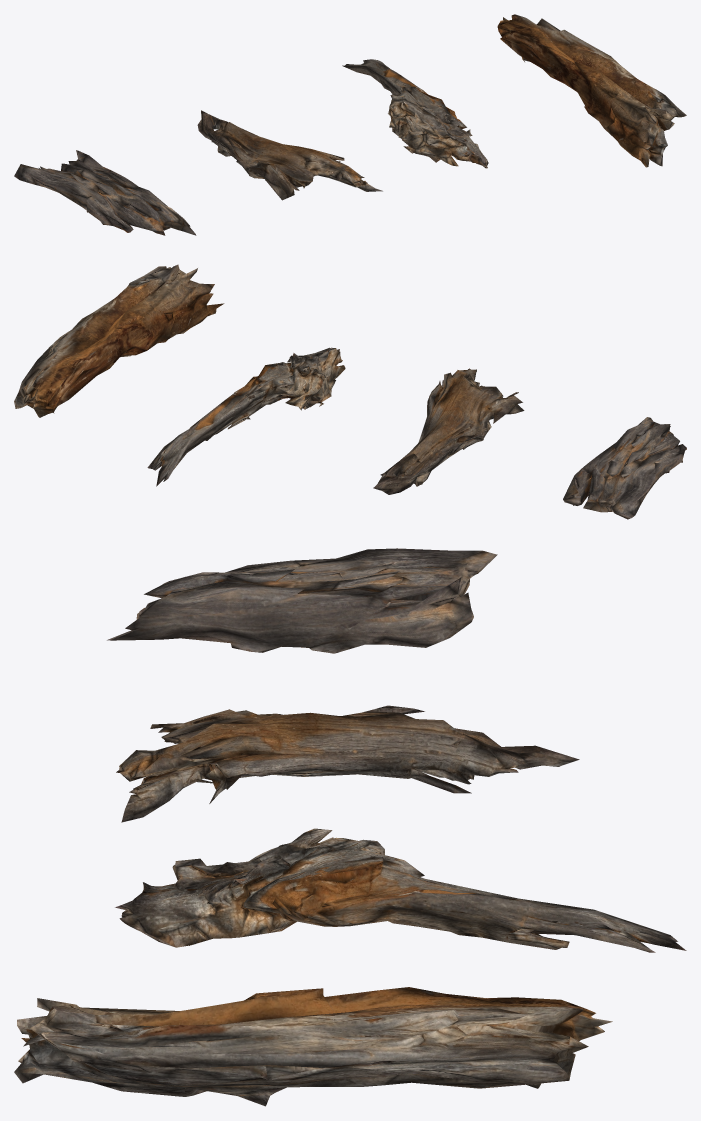
The model's file is bark_debris_01.glb.
3 renders of one model, top to bottom at view 1: azimuth 30°, elevation 25°; view 2: azimuth 150°, elevation 25°; view 3: azimuth 270°, elevation 25°, orthographic. The views are drawn at different scales.
Visible parts, largest first — view 1: bark_debris_01_d, bark_debris_01_a, bark_debris_01_b, bark_debris_01_c; view 2: bark_debris_01_d, bark_debris_01_b, bark_debris_01_c, bark_debris_01_a; view 3: bark_debris_01_d, bark_debris_01_c, bark_debris_01_a, bark_debris_01_b.
Boxes of the visible parts, x1,y1,x2,y2 form: bark_debris_01_d: [497, 14, 686, 167]; bark_debris_01_a: [14, 150, 196, 235]; bark_debris_01_b: [197, 110, 382, 200]; bark_debris_01_c: [342, 59, 488, 168]; bark_debris_01_d: [14, 264, 224, 417]; bark_debris_01_b: [373, 368, 524, 494]; bark_debris_01_c: [147, 347, 345, 486]; bark_debris_01_a: [563, 417, 686, 519]; bark_debris_01_d: [14, 987, 612, 1106]; bark_debris_01_c: [115, 828, 686, 952]; bark_debris_01_a: [107, 548, 497, 653]; bark_debris_01_b: [116, 705, 579, 822].
Size of the model in its own units: 1.2 by 0.1068 by 0.6708.
Materials: 1 (1 with a texture image).
